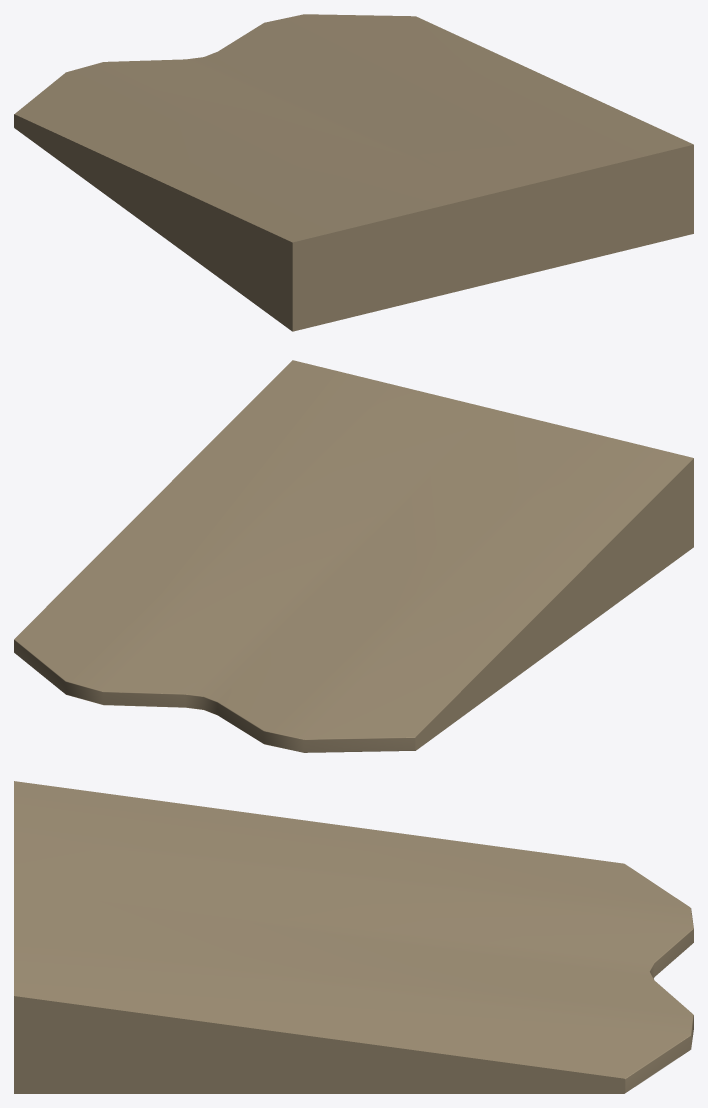
The model's file is Ground 3.fbx.
The picture shows the model from 3 angles, top to bottom: view 1: azimuth 30°, elevation 25°; view 2: azimuth 150°, elevation 25°; view 3: azimuth 270°, elevation 25°; orthographic projection. The views are drawn at different scales.
Parts seen in each view (by area): view 1: pCube8; view 2: pCube8; view 3: pCube8.
Part boxes in pixels (bbox=[...]): pCube8: bbox=[14, 14, 693, 331]; pCube8: bbox=[14, 360, 693, 752]; pCube8: bbox=[14, 781, 693, 1093].
Bounding box in the file's own units: 5.24 × 1.11 × 7.01.
